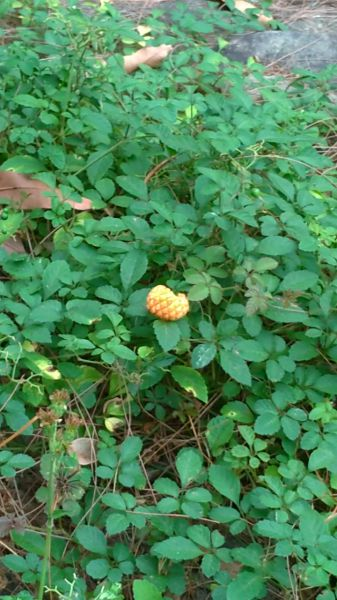eggs: (140, 283, 197, 324)
